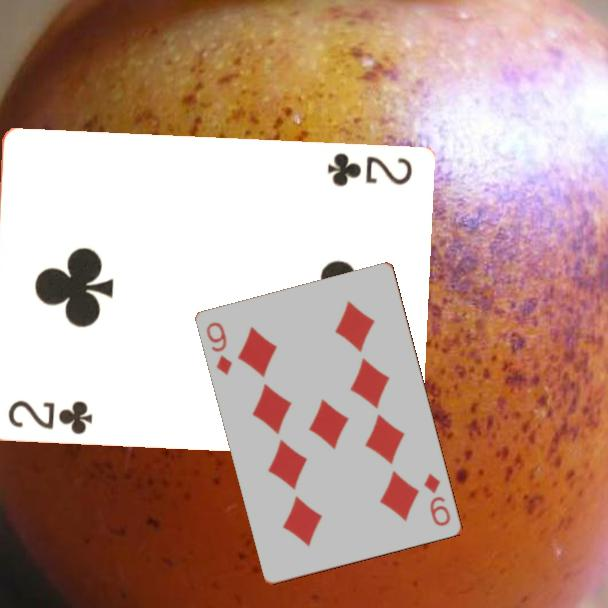c02: (4, 397, 95, 438), (323, 150, 415, 190)
d09: (420, 470, 454, 529), (203, 319, 235, 378)
